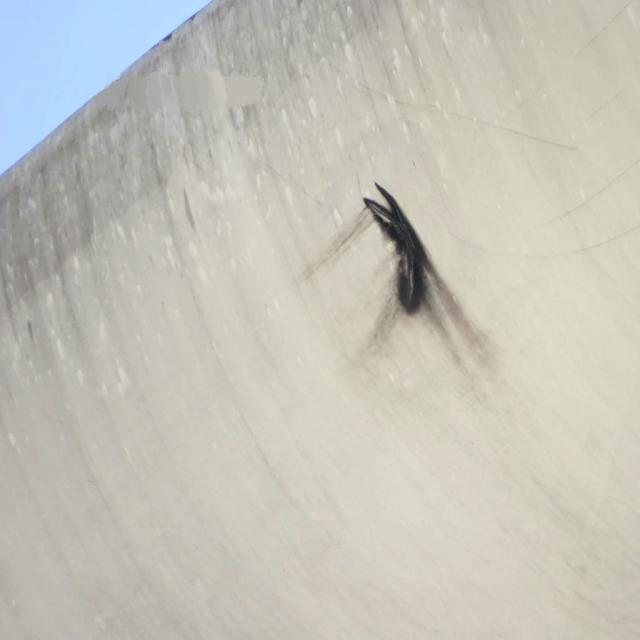crack: (343, 180, 450, 333)
